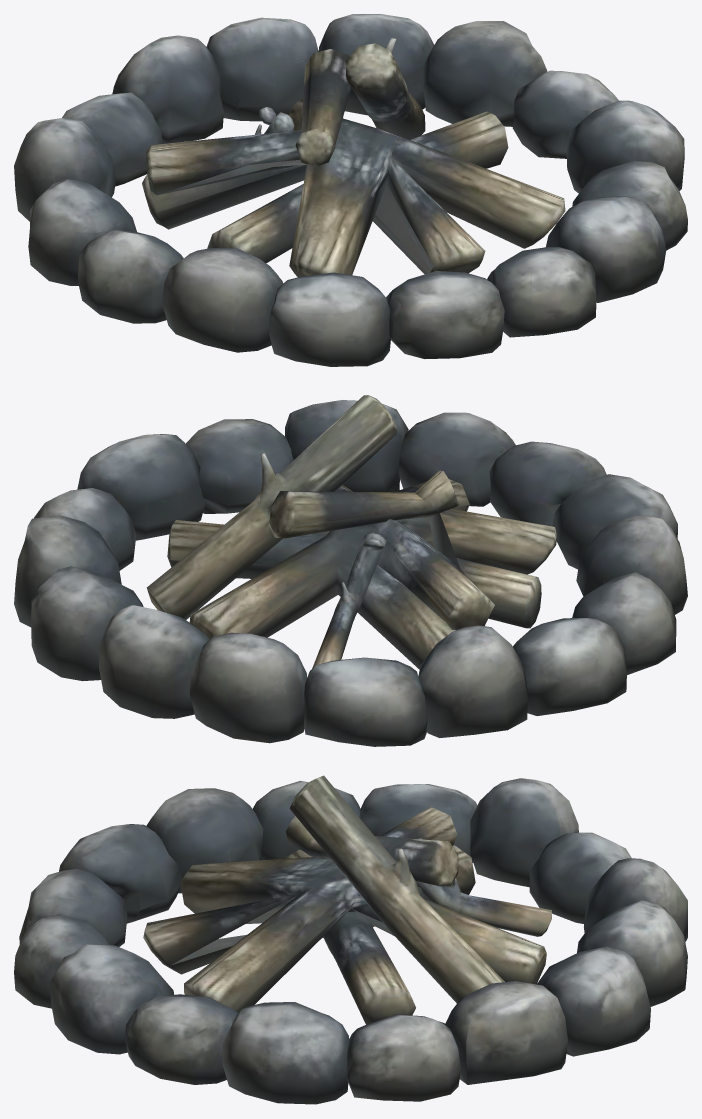
File: campfire.glb
3 renders of one model, top to bottom at view 1: azimuth 30°, elevation 25°; view 2: azimuth 150°, elevation 25°; view 3: azimuth 270°, elevation 25°, orthographic. The views are drawn at different scales.
Parts seen in each view (by area): view 1: model; view 2: model; view 3: model.
Part boxes in pixels (x1,y1,x2,y2): model: (14, 14, 687, 366); model: (14, 395, 687, 746); model: (14, 775, 687, 1104).
Bounding box in the file's own units: 3.05 × 1 × 3.1.
Materials: 1 (1 with a texture image).
